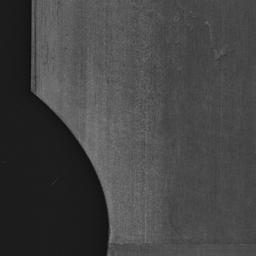Crescent gap: (33, 93, 109, 256)
